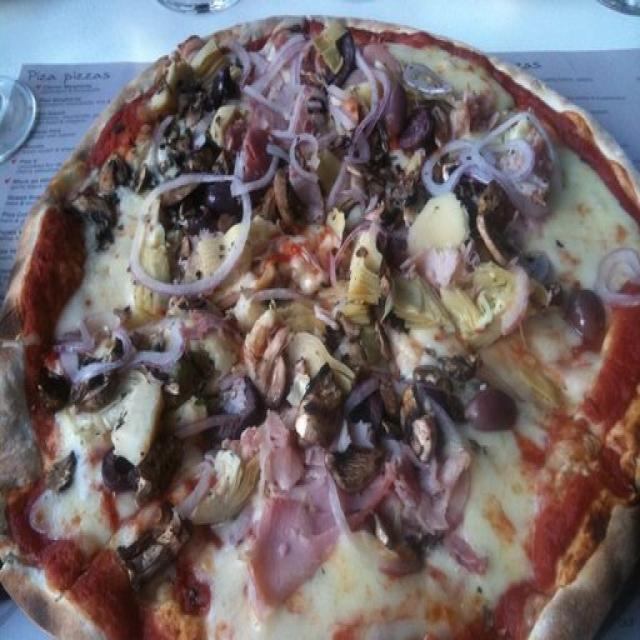Ham: (249, 452, 329, 608), (347, 466, 413, 530), (182, 319, 243, 348), (452, 540, 490, 579), (362, 44, 400, 72), (247, 133, 268, 180)
Mushrooms: (70, 151, 146, 224), (124, 515, 188, 590), (243, 311, 289, 406), (294, 367, 339, 446), (478, 182, 518, 268), (398, 395, 440, 464), (267, 174, 305, 232), (374, 302, 402, 356)
Olives: (466, 392, 526, 439), (103, 450, 135, 494), (573, 292, 598, 343), (402, 111, 434, 146), (387, 81, 406, 133), (209, 183, 235, 209), (214, 70, 232, 102)
Onions: (134, 177, 252, 295), (230, 35, 314, 172), (422, 113, 550, 195), (332, 68, 388, 193), (59, 315, 128, 386), (599, 246, 640, 306), (504, 268, 535, 332), (136, 324, 183, 362), (404, 61, 449, 92), (253, 291, 318, 311)
Pizza: (0, 18, 640, 640)
